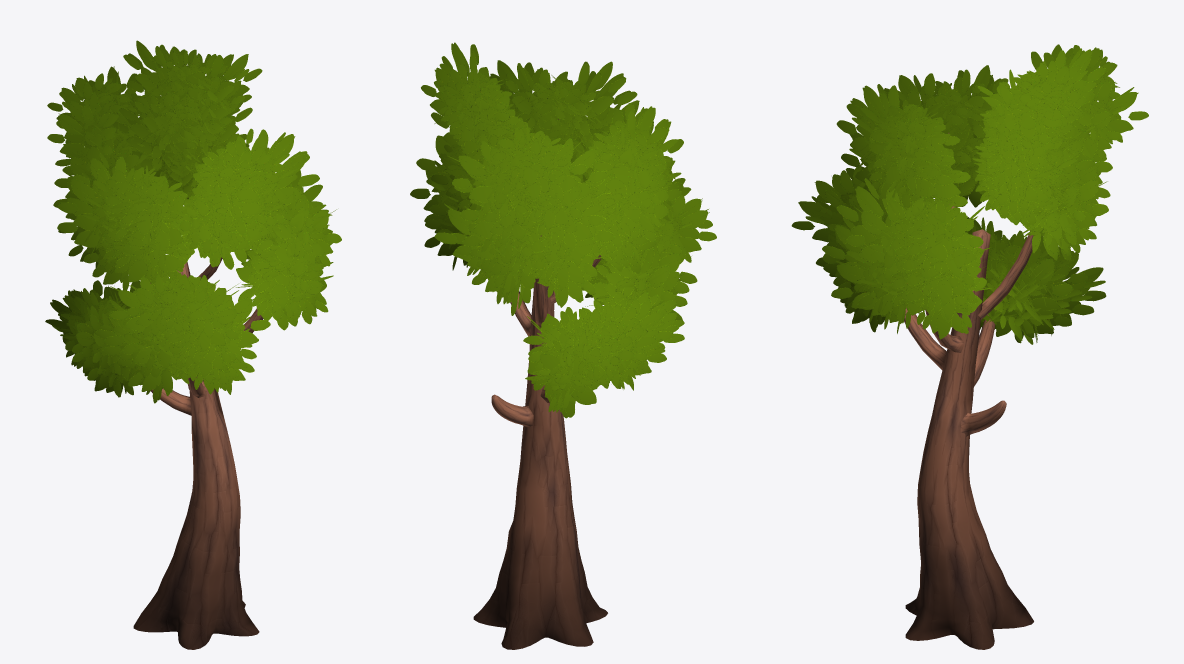
Rendered from CommonTree_5.gltf.
3 renders of one model, left to right at view 1: azimuth 30°, elevation 25°; view 2: azimuth 150°, elevation 25°; view 3: azimuth 270°, elevation 25°, orthographic. The views are drawn at different scales.
Parts seen in each view (by area): view 1: CommonTree_5; view 2: CommonTree_5; view 3: CommonTree_5.
Boxes of the visible parts, x1,y1,x2,y2 form: CommonTree_5: (45,40,341,649); CommonTree_5: (410,42,716,649); CommonTree_5: (791,44,1148,649).
Size of the model in its own units: 3.67 by 7.01 by 4.22.
Materials: 2 (2 with a texture image).
